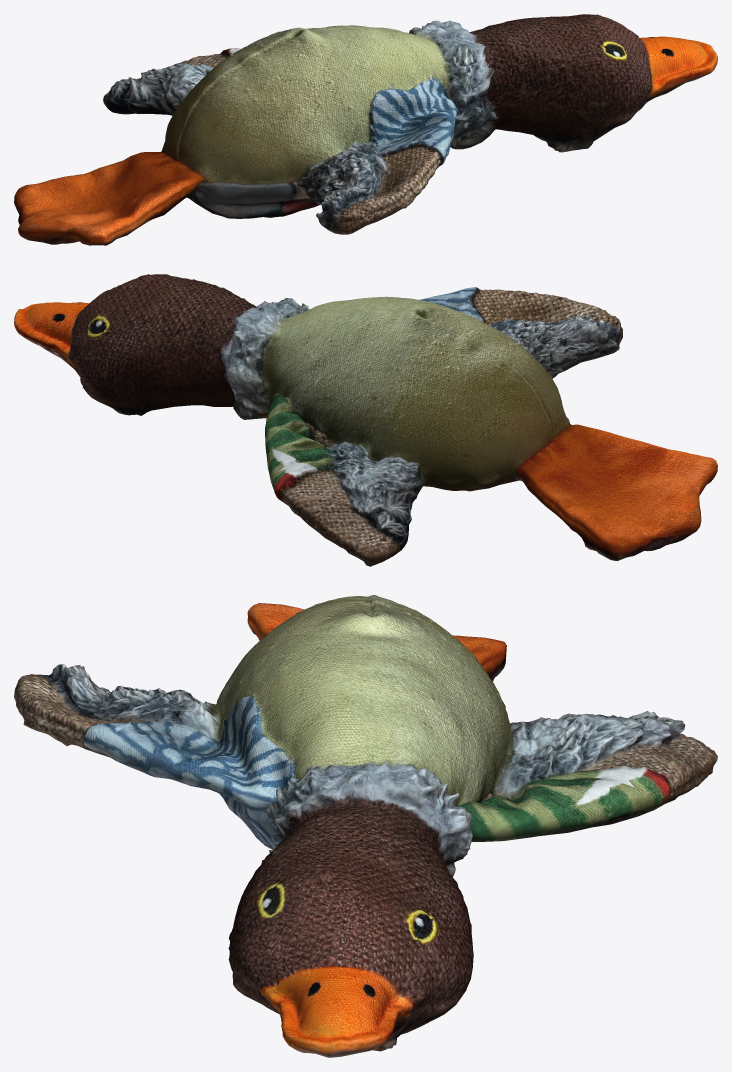
3 renders of one model, top to bottom at view 1: azimuth 30°, elevation 25°; view 2: azimuth 150°, elevation 25°; view 3: azimuth 270°, elevation 25°, orthographic. The views are drawn at different scales.
Parts seen in each view (by area): view 1: min_duck_scan; view 2: min_duck_scan; view 3: min_duck_scan.
Boxes of the visible parts, box(x1,y1,x2,y2) form: min_duck_scan: box(14, 14, 717, 245); min_duck_scan: box(14, 274, 717, 566); min_duck_scan: box(14, 595, 717, 1057).
Bounding box in the file's own units: 0.3402 × 0.0736 × 0.2132.
1 material, 1 textured.
